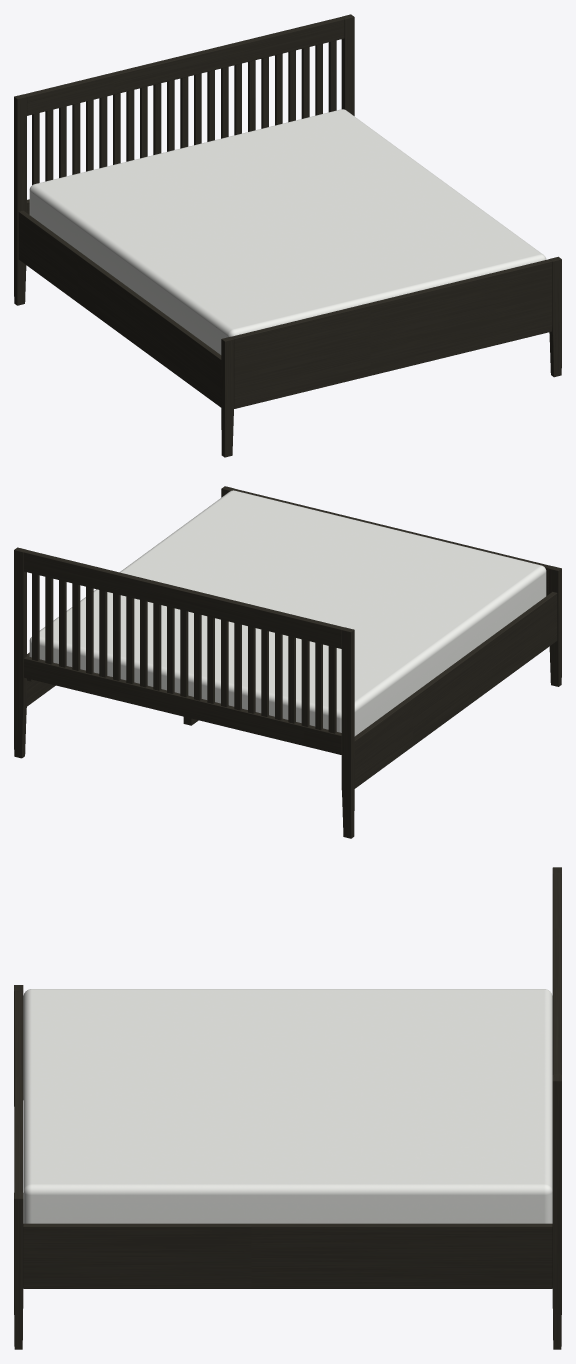
File: dark_brown_bed.glb
The picture shows the model from 3 angles, top to bottom: view 1: azimuth 30°, elevation 25°; view 2: azimuth 150°, elevation 25°; view 3: azimuth 270°, elevation 25°; orthographic projection. The views are drawn at different scales.
Visible parts, largest first — view 1: White_Mattress, Footboard_Solid_Panel, Left_Side_Rail, Headboard_Top_Rail, Head_Left_Post, Foot_Left_Post, Foot_Right_Post, Head_Right_Post, Headboard_Vertical_Slat_02, Headboard_Vertical_Slat_04, Headboard_Vertical_Slat_06, Headboard_Vertical_Slat_08 (+19 smaller); view 2: White_Mattress, Left_Side_Rail, Headboard_Top_Rail, Headboard_Lower_Rail, Head_Left_Post, Head_Right_Post, Foot_Left_Post, Footboard_Solid_Panel, Headboard_Vertical_Slat_01, Headboard_Vertical_Slat_03, Headboard_Vertical_Slat_12, Headboard_Vertical_Slat_16 (+19 smaller); view 3: White_Mattress, Right_Side_Rail, Head_Right_Post, Footboard_Solid_Panel, Headboard_Top_Rail, Foot_Right_Post.
Part boxes in pixels (x1=…): White_Mattress: x1=29, y1=109, x2=546, y2=354; Footboard_Solid_Panel: x1=231, y1=259, x2=551, y2=408; Left_Side_Rail: x1=18, y1=210, x2=221, y2=407; Headboard_Top_Rail: x1=24, y1=17, x2=344, y2=115; Head_Left_Post: x1=14, y1=94, x2=26, y2=305; Foot_Left_Post: x1=221, y1=336, x2=234, y2=457; Foot_Right_Post: x1=549, y1=256, x2=561, y2=377; Head_Right_Post: x1=341, y1=14, x2=354, y2=115; Headboard_Vertical_Slat_02: x1=45, y1=109, x2=53, y2=181; Headboard_Vertical_Slat_04: x1=72, y1=103, x2=80, y2=174; Headboard_Vertical_Slat_06: x1=99, y1=96, x2=107, y2=168; Headboard_Vertical_Slat_08: x1=126, y1=90, x2=134, y2=161; White_Mattress: x1=29, y1=490, x2=546, y2=736; Left_Side_Rail: x1=354, y1=591, x2=557, y2=788; Headboard_Top_Rail: x1=24, y1=550, x2=344, y2=648; Headboard_Lower_Rail: x1=24, y1=656, x2=341, y2=754; Head_Left_Post: x1=341, y1=627, x2=354, y2=838; Head_Right_Post: x1=14, y1=547, x2=26, y2=758; Foot_Left_Post: x1=549, y1=566, x2=561, y2=686; Footboard_Solid_Panel: x1=232, y1=488, x2=551, y2=595; Headboard_Vertical_Slat_01: x1=328, y1=646, x2=336, y2=733; Headboard_Vertical_Slat_03: x1=301, y1=639, x2=309, y2=726; Headboard_Vertical_Slat_12: x1=180, y1=609, x2=188, y2=697; Headboard_Vertical_Slat_16: x1=126, y1=596, x2=134, y2=683; White_Mattress: x1=23, y1=989, x2=552, y2=1223; Right_Side_Rail: x1=23, y1=1223, x2=552, y2=1288; Head_Right_Post: x1=552, y1=1075, x2=561, y2=1349; Footboard_Solid_Panel: x1=14, y1=991, x2=22, y2=1192; Headboard_Top_Rail: x1=553, y1=873, x2=561, y2=1074; Foot_Right_Post: x1=14, y1=1192, x2=23, y2=1349.
Size of the model in its own units: 1.91 by 1.12 by 2.07.
Materials: 2 (2 with a texture image).
